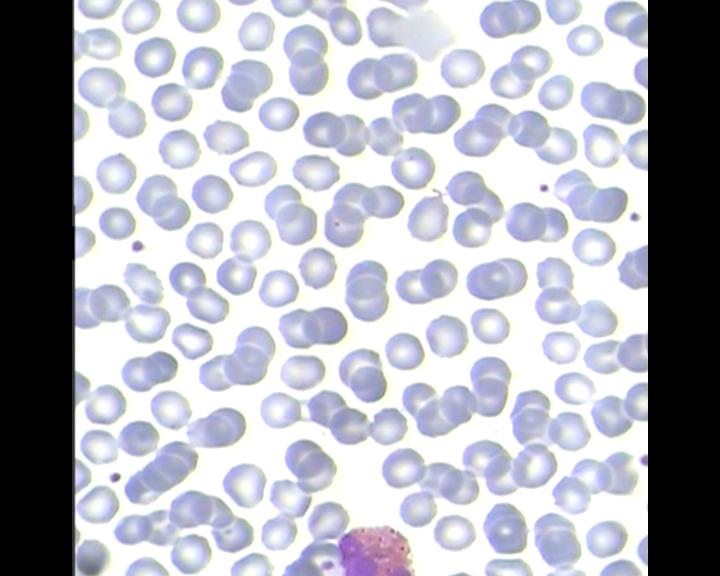eosi: (333, 520, 426, 576)
